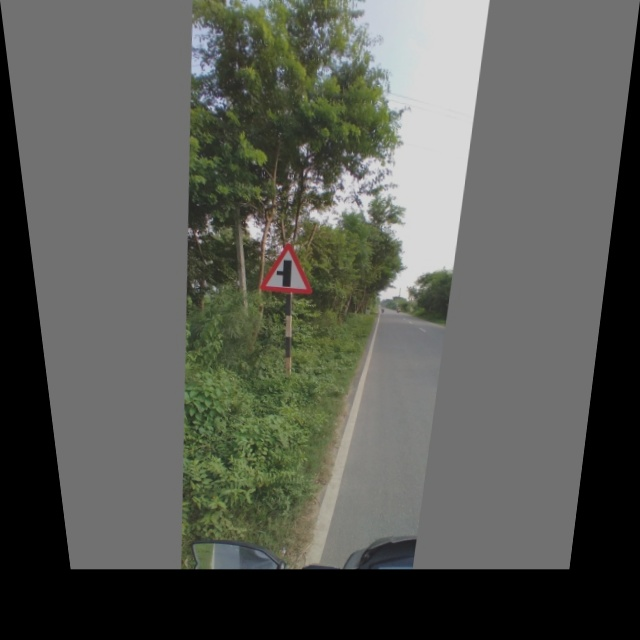Side_Road_Left: (253, 238, 320, 301)
